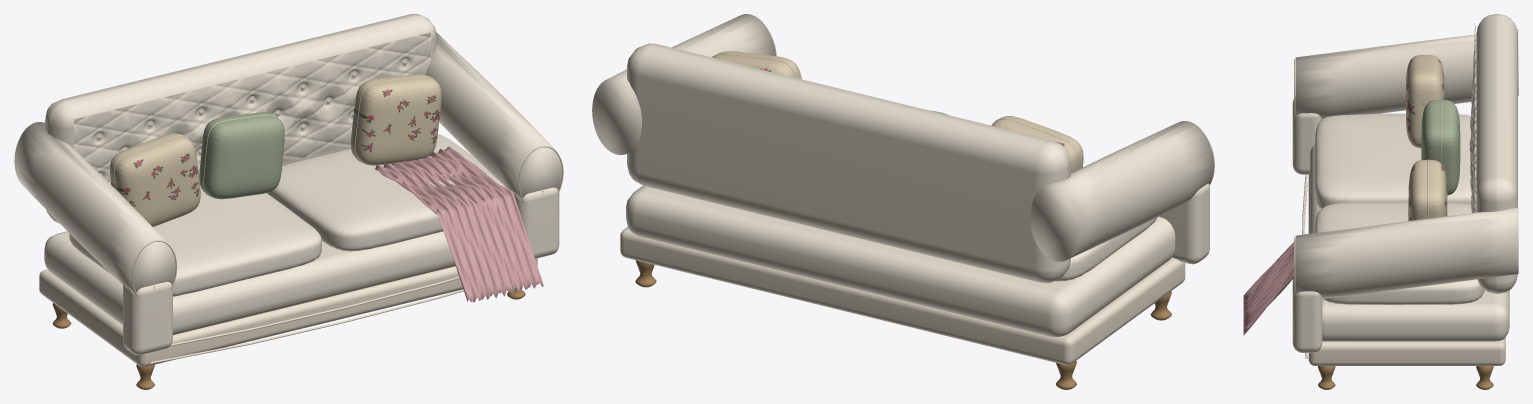
The model's file is sofa.glb.
3 views of the same model, side by side, from view 1: azimuth 30°, elevation 25°; view 2: azimuth 150°, elevation 25°; view 3: azimuth 270°, elevation 25° (orthographic). The views are drawn at different scales.
Parts seen in each view (by area): view 1: sofa__Natural cream linen, sofa__Rose botanical print on linen, sofa__Dusty rose washed cotton, sofa__Warm aged ivory lacquer, sofa__Sage linen, sofa__Linen piping, sofa__Honey ash exposed edges; view 2: sofa__Natural cream linen, sofa__Warm aged ivory lacquer, sofa__Rose botanical print on linen, sofa__Honey ash exposed edges; view 3: sofa__Natural cream linen, sofa__Warm aged ivory lacquer, sofa__Rose botanical print on linen, sofa__Sage linen, sofa__Dusty rose washed cotton, sofa__Honey ash exposed edges, sofa__Linen piping.
Boxes of the visible parts, left/top/right/bottom form: sofa__Natural cream linen: left=14, top=14, right=562, bottom=355; sofa__Rose botanical print on linen: left=110, top=74, right=441, bottom=226; sofa__Dusty rose washed cotton: left=375, top=147, right=543, bottom=302; sofa__Warm aged ivory lacquer: left=39, top=258, right=537, bottom=366; sofa__Sage linen: left=199, top=112, right=284, bottom=199; sofa__Linen piping: left=97, top=61, right=563, bottom=296; sofa__Honey ash exposed edges: left=52, top=288, right=525, bottom=389; sofa__Natural cream linen: left=592, top=14, right=1213, bottom=336; sofa__Warm aged ivory lacquer: left=620, top=227, right=1185, bottom=365; sofa__Rose botanical print on linen: left=712, top=51, right=1083, bottom=172; sofa__Honey ash exposed edges: left=635, top=260, right=1171, bottom=389; sofa__Natural cream linen: left=1292, top=14, right=1518, bottom=352; sofa__Warm aged ivory lacquer: left=1302, top=174, right=1505, bottom=365; sofa__Rose botanical print on linen: left=1406, top=55, right=1447, bottom=220; sofa__Sage linen: left=1421, top=100, right=1460, bottom=195; sofa__Dusty rose washed cotton: left=1243, top=233, right=1314, bottom=335; sofa__Honey ash exposed edges: left=1318, top=366, right=1493, bottom=389; sofa__Linen piping: left=1294, top=54, right=1441, bottom=295.
Size of the model in its own units: 1.83 by 0.875 by 1.06.
8 materials, 1 textured.
